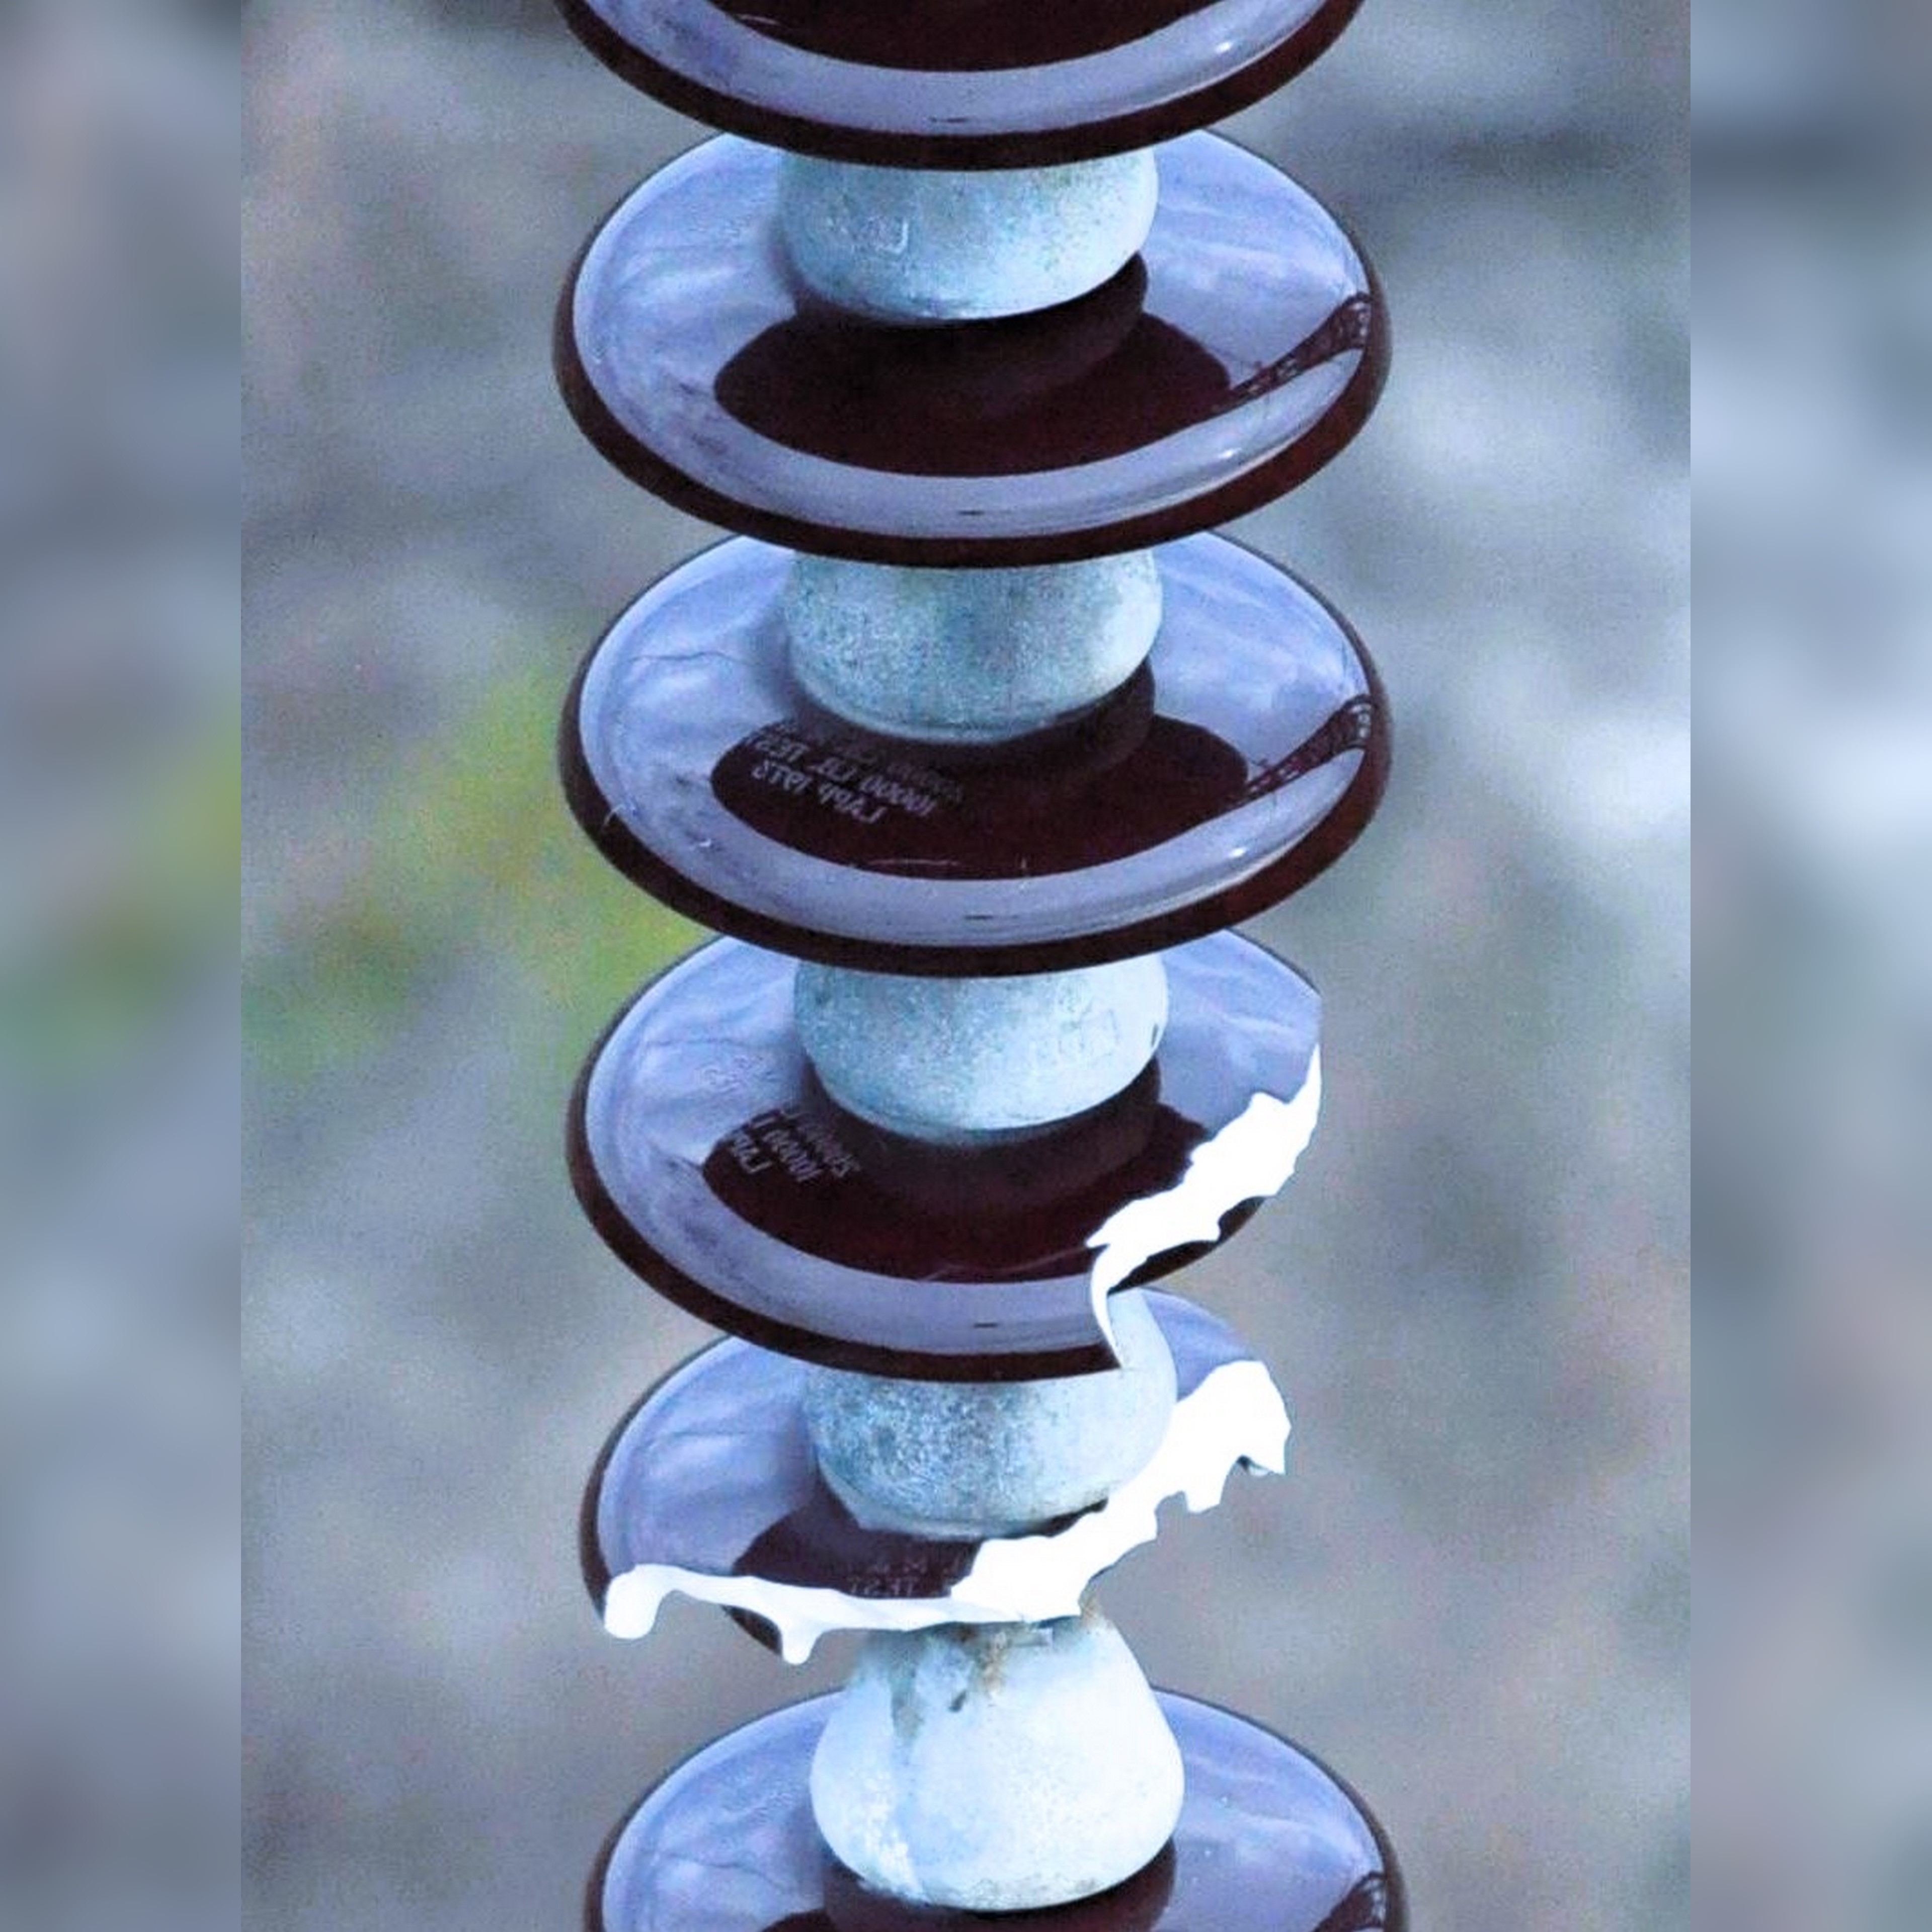insulator breakage: (548, 927, 1364, 1709)
